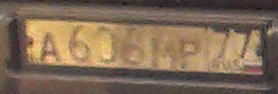character: (90, 23, 118, 67), (66, 22, 91, 64), (119, 24, 144, 66), (149, 36, 177, 70), (230, 23, 252, 63), (178, 39, 204, 72), (39, 29, 63, 64), (212, 24, 231, 60)
